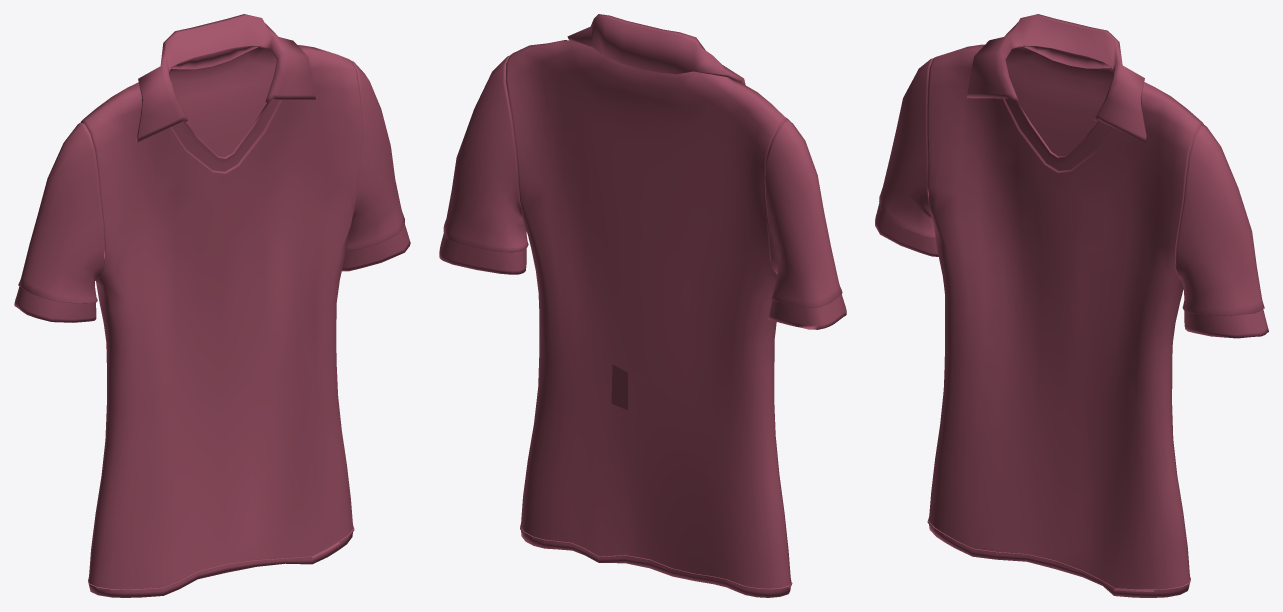
The model's file is T_ShirtD.fbx.
3 renders of one model, left to right at view 1: azimuth 30°, elevation 25°; view 2: azimuth 150°, elevation 25°; view 3: azimuth 330°, elevation 25°, orthographic. The views are drawn at different scales.
Visible parts, largest first — view 1: T_ShirtD; view 2: T_ShirtD; view 3: T_ShirtD.
Boxes of the visible parts, x1=… form: T_ShirtD: x1=14, y1=14, x2=410, y2=597; T_ShirtD: x1=439, y1=14, x2=846, y2=597; T_ShirtD: x1=875, y1=14, x2=1268, y2=597.
Size of the model in its own units: 61.24 by 80.63 by 11.43.
